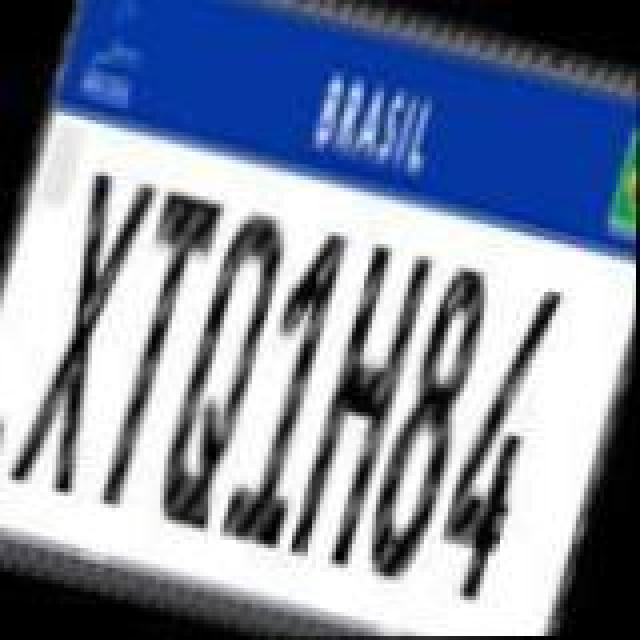1: (216, 222, 364, 558)
4: (422, 272, 570, 612)
8: (360, 254, 508, 594)
H: (284, 234, 440, 578)
Q: (148, 200, 300, 544)
T: (84, 190, 228, 526)
X: (8, 168, 160, 504)
